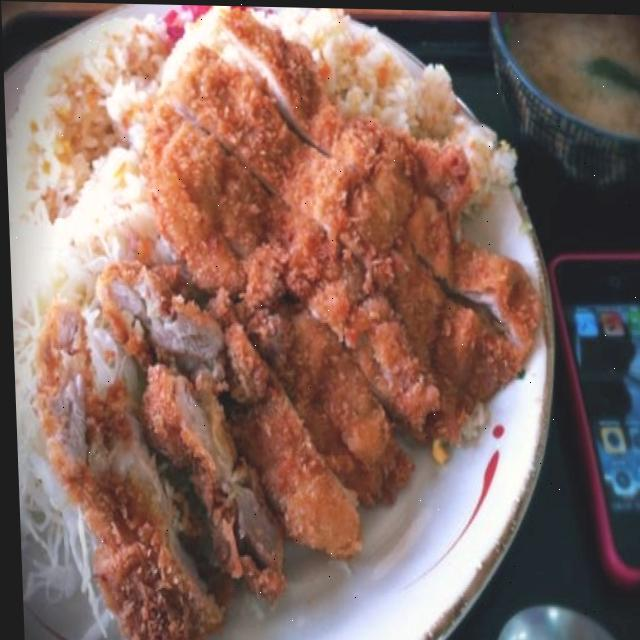鸡肉料理 含炸鸡: (14, 0, 555, 640)
